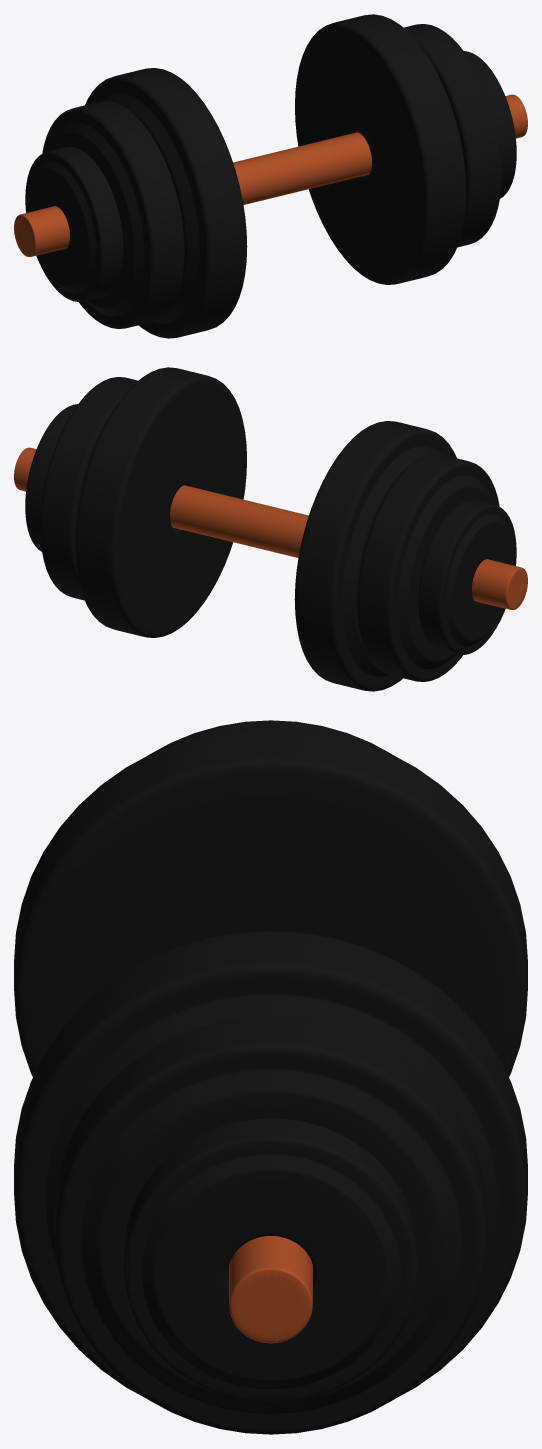
Rendered from Iron Dumbel.fbx.
3 renders of one model, top to bottom at view 1: azimuth 30°, elevation 25°; view 2: azimuth 150°, elevation 25°; view 3: azimuth 270°, elevation 25°, orthographic. The views are drawn at different scales.
Visible parts, largest first — view 1: Grappler; view 2: Grappler; view 3: Grappler.
Part boxes in pixels (x1,y1,x2,y2): Grappler: [14, 14, 527, 338]; Grappler: [14, 367, 527, 691]; Grappler: [14, 720, 527, 1434].
Bounding box in the file's own units: 200 × 94.5 × 94.5.
